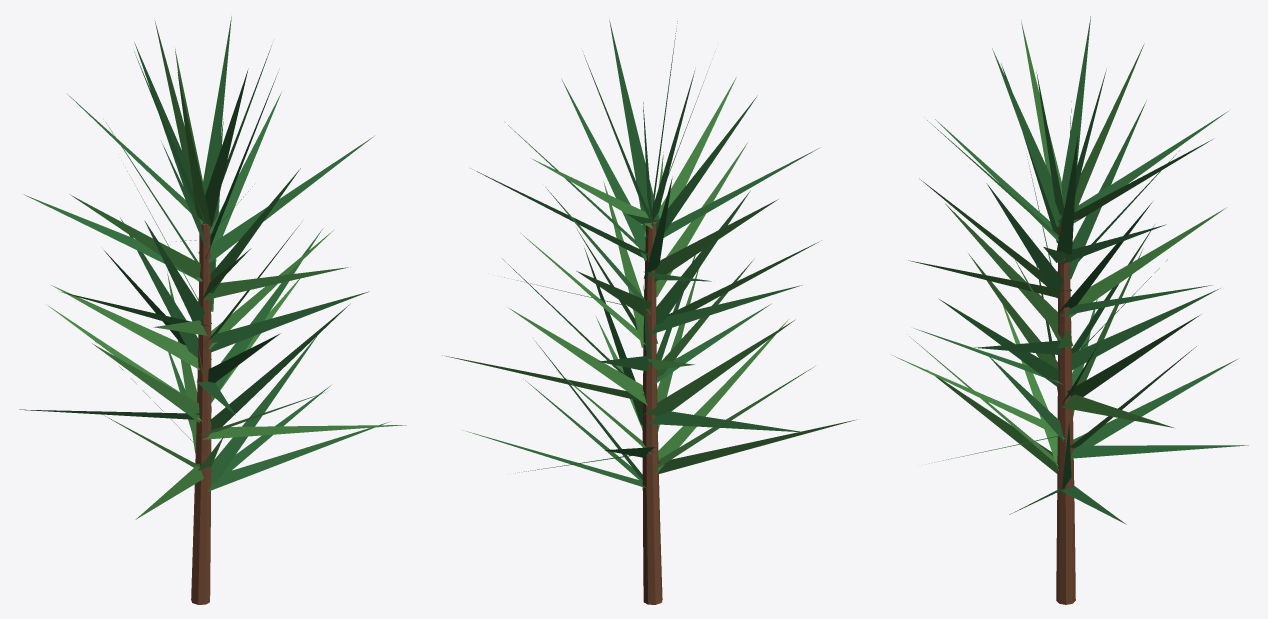
The picture shows the model from 3 angles, left to right: view 1: azimuth 30°, elevation 25°; view 2: azimuth 150°, elevation 25°; view 3: azimuth 270°, elevation 25°; orthographic projection.
Parts seen in each view (by area): view 1: body; view 2: body; view 3: body.
Boxes of the visible parts, x1=… form: body: x1=19, y1=16, x2=406, y2=604; body: x1=442, y1=20, x2=856, y2=604; body: x1=892, y1=16, x2=1248, y2=604.
Bounding box in the file's own units: 0.3445 × 0.55 × 0.325.
1 material, 1 textured.
